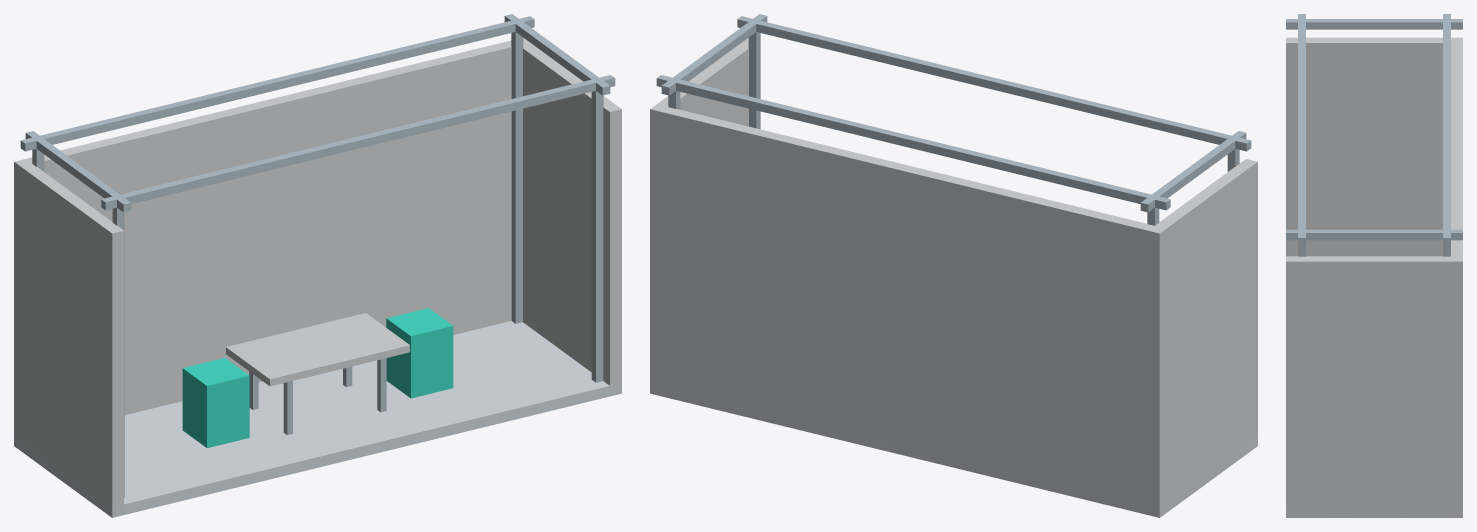
3 views of the same model, side by side, from view 1: azimuth 30°, elevation 25°; view 2: azimuth 150°, elevation 25°; view 3: azimuth 270°, elevation 25° (orthographic). The views are drawn at different scales.
Parts seen in each view (by area): view 1: Exhibition Booth Concept; view 2: Exhibition Booth Concept; view 3: Exhibition Booth Concept.
Part boxes in pixels (box(x1,y1,x2,y2)): Exhibition Booth Concept: box(14, 14, 621, 517); Exhibition Booth Concept: box(650, 14, 1257, 517); Exhibition Booth Concept: box(1286, 14, 1462, 517).
Bounding box in the file's own units: 6 × 3.49 × 2.
